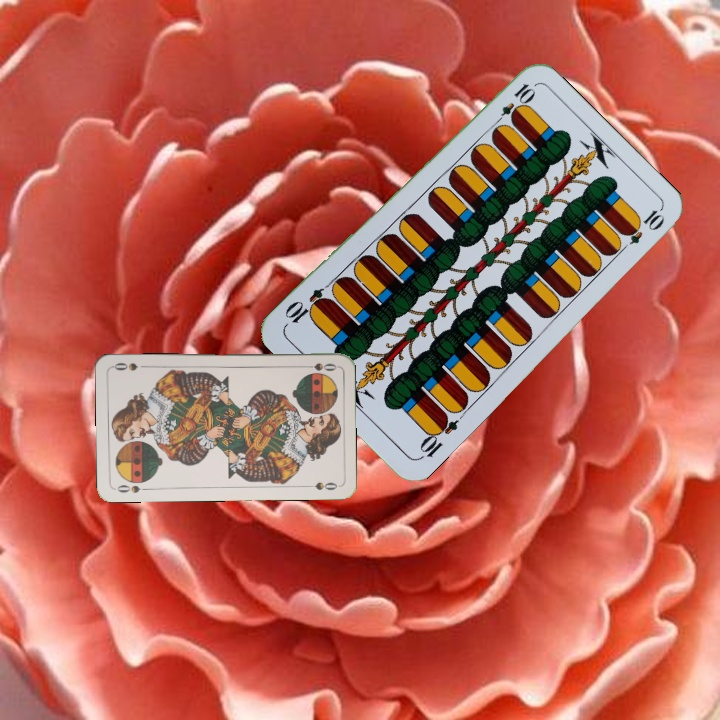E10: (489, 79, 537, 130), (415, 410, 461, 462)
SO: (298, 359, 339, 374), (111, 481, 152, 495)
